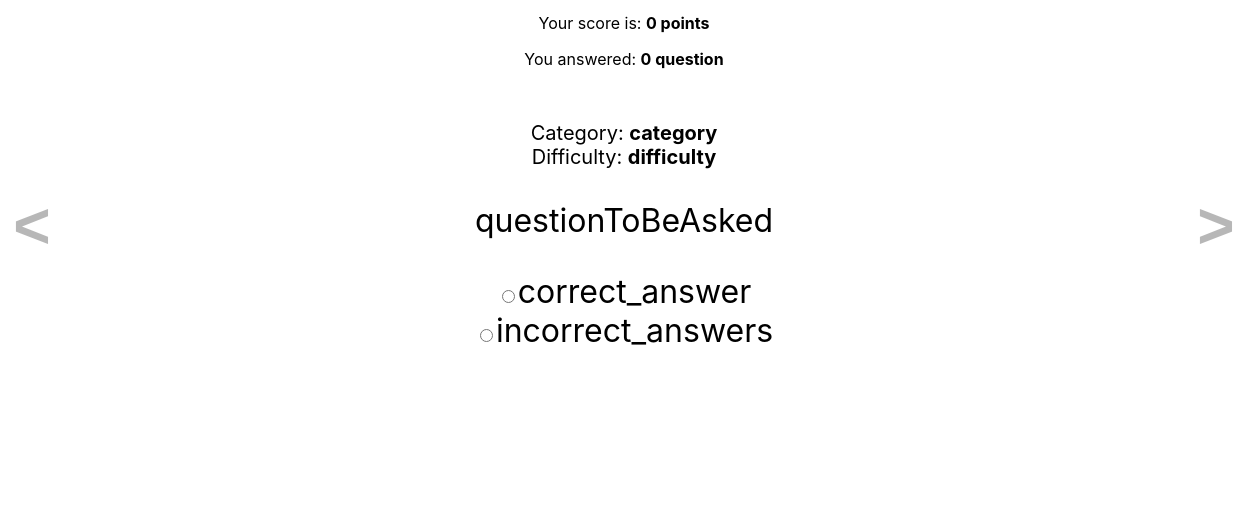
Test case: shows 'You are Correct!!!' if the answer is correct
Click the radio button labelled "correct_answer": {"x": 508, "y": 296} [502,290,515,303]
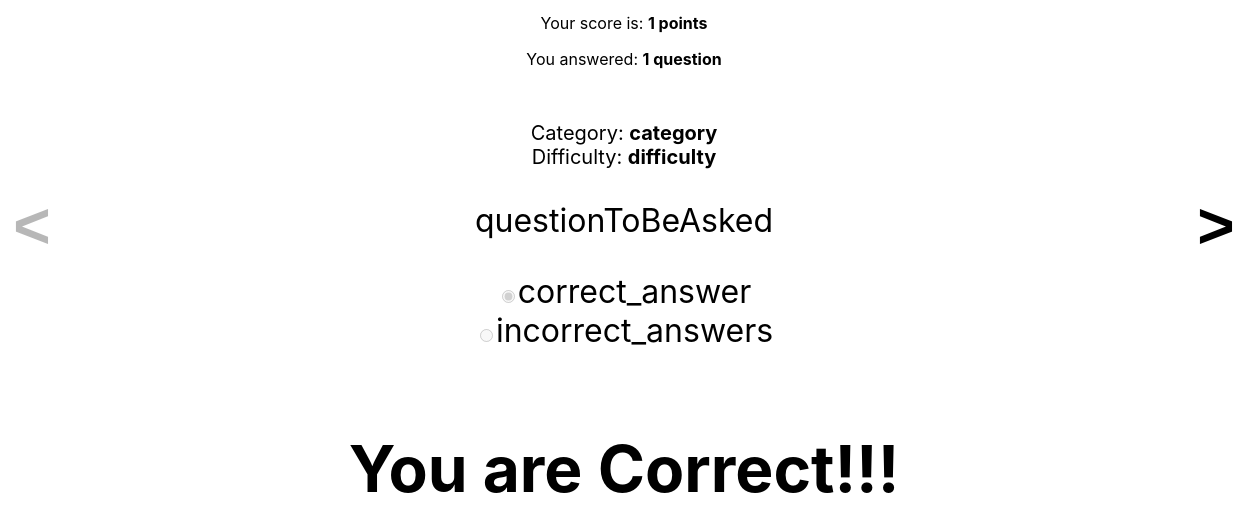
expect the text "You are Correct!!!" is shown: met, box [349,430,899,507]
